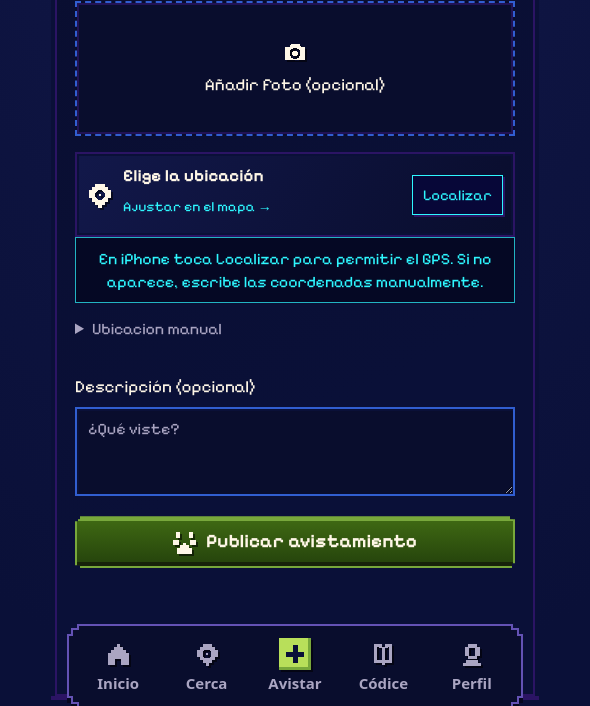
it: geolocation screens › does not submit a sighting at zero coordinates when GPS is still empty
(page scrolled)
Click the button "Publicar avistamiento".
click(295, 542)  # box x1=75 y1=516 x2=515 y2=568
(page scrolled)
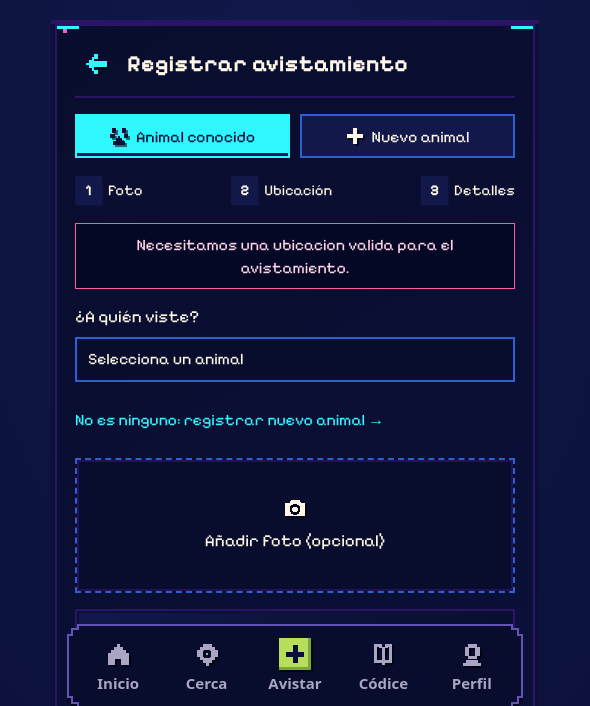
Now the message shows "ubicacion valida", box x1=136 y1=235 x2=453 y2=277
